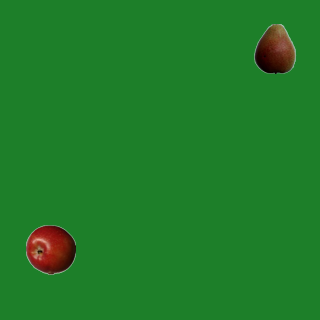Apple Braeburn: (25, 224, 75, 274)
Pear Forelle: (249, 23, 299, 73)
